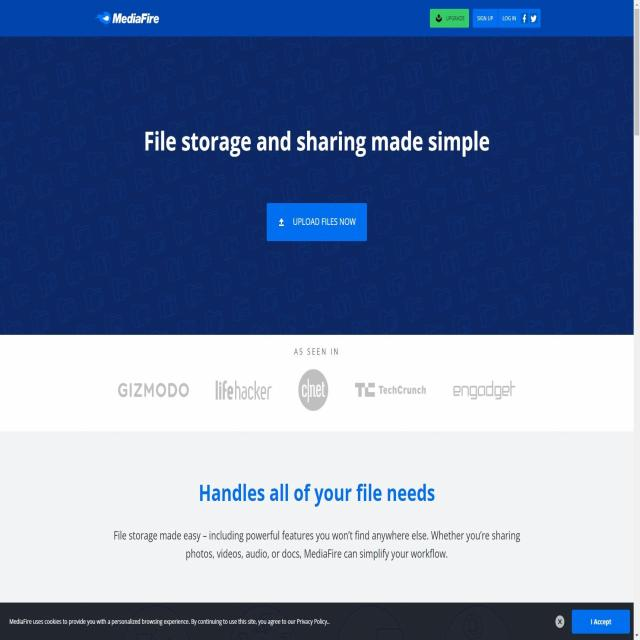button: (268, 202, 368, 243), (572, 609, 631, 634), (431, 8, 468, 27)
